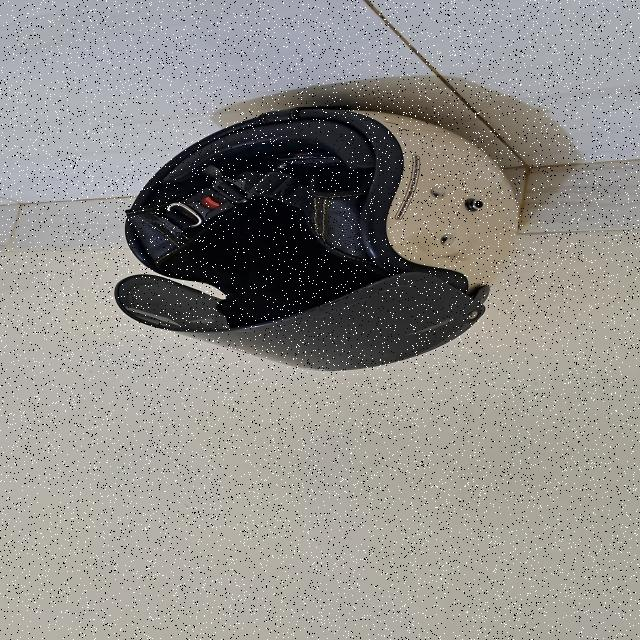Helmet: (113, 104, 521, 370)
